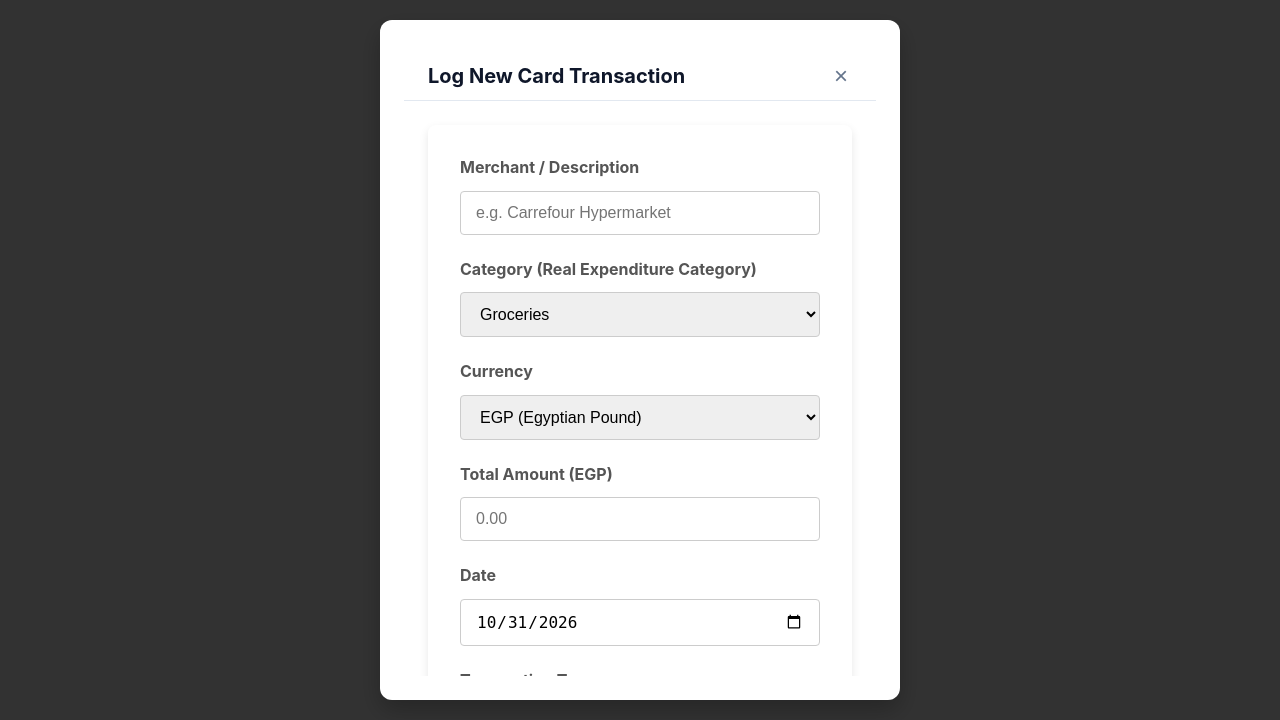
AddTransactionModal.currency.test.js - Multi-Currency & Rate Lock Tests › disables exchangeRate input for non-admin users and shows helper text
This screenshot has width=1280, height=720.
Step 1. Select "USD (US Dollar)" in the dropdown labelled "Currency" → [640, 417], box [460,395,820,440]
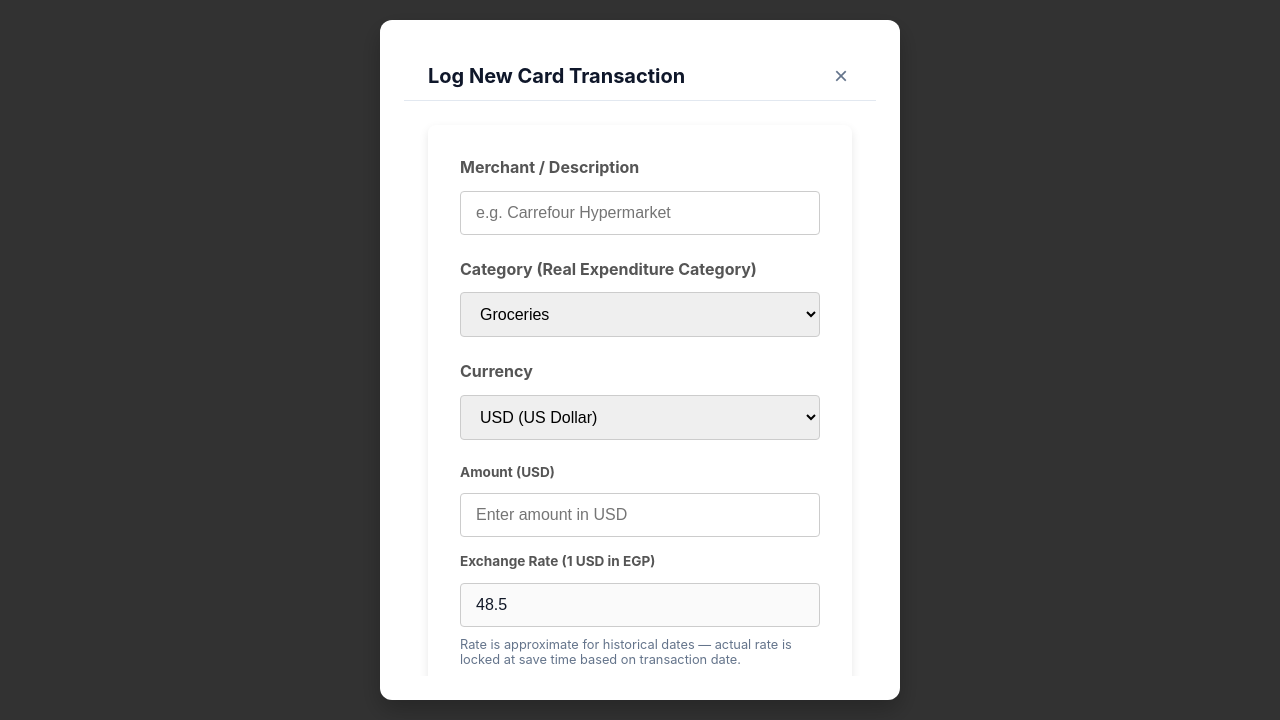
Expected: the number field labelled "Exchange Rate (1 USD in EGP)" is disabled, [460,583,820,627]
Expected: the text "Rate is approximate for historical dates — actual rate is locked at save time" is shown, [460,637,792,667]
